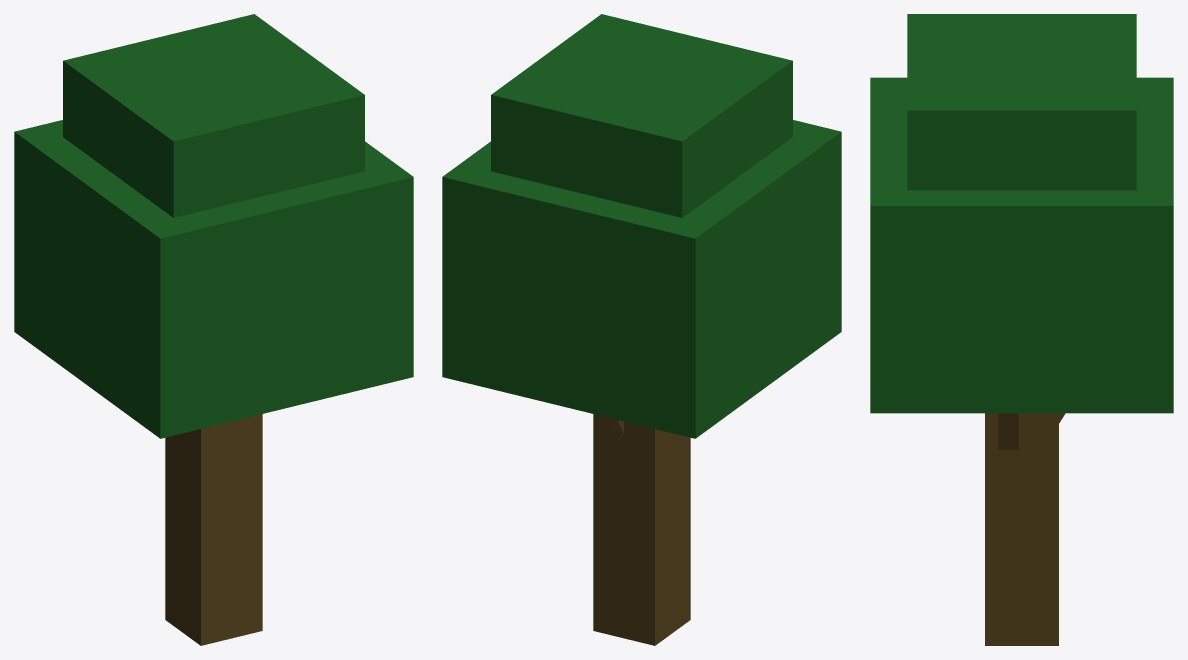
File: tree1.gltf
The picture shows the model from 3 angles, left to right: view 1: azimuth 30°, elevation 25°; view 2: azimuth 150°, elevation 25°; view 3: azimuth 270°, elevation 25°; orthographic projection. The views are drawn at different scales.
Parts seen in each view (by area): view 1: fab1228d-fa99-c2de-641c-9c6a67ef1a88, 7c46b347-5f07-bf4b-7518-baf8722ab0e3, 448248b5-f4c7-b4a0-0bee-2c72d7f67e15; view 2: fab1228d-fa99-c2de-641c-9c6a67ef1a88, 7c46b347-5f07-bf4b-7518-baf8722ab0e3, 448248b5-f4c7-b4a0-0bee-2c72d7f67e15; view 3: fab1228d-fa99-c2de-641c-9c6a67ef1a88, 7c46b347-5f07-bf4b-7518-baf8722ab0e3, 448248b5-f4c7-b4a0-0bee-2c72d7f67e15, 4eea3123-cc43-ad8e-7e8e-a22796cda02a.
Part boxes in pixels (bbox=[...]): fab1228d-fa99-c2de-641c-9c6a67ef1a88: bbox=[14, 120, 413, 438]; 7c46b347-5f07-bf4b-7518-baf8722ab0e3: bbox=[63, 14, 364, 217]; 448248b5-f4c7-b4a0-0bee-2c72d7f67e15: bbox=[165, 414, 262, 645]; fab1228d-fa99-c2de-641c-9c6a67ef1a88: bbox=[442, 120, 841, 438]; 7c46b347-5f07-bf4b-7518-baf8722ab0e3: bbox=[491, 14, 792, 217]; 448248b5-f4c7-b4a0-0bee-2c72d7f67e15: bbox=[593, 414, 690, 645]; fab1228d-fa99-c2de-641c-9c6a67ef1a88: bbox=[870, 77, 1173, 413]; 7c46b347-5f07-bf4b-7518-baf8722ab0e3: bbox=[907, 14, 1136, 190]; 448248b5-f4c7-b4a0-0bee-2c72d7f67e15: bbox=[985, 413, 1058, 645]; 4eea3123-cc43-ad8e-7e8e-a22796cda02a: bbox=[998, 413, 1018, 449].
Size of the model in its own units: 0.5625 by 1.16 by 0.5625.
2 materials, 2 textured.
